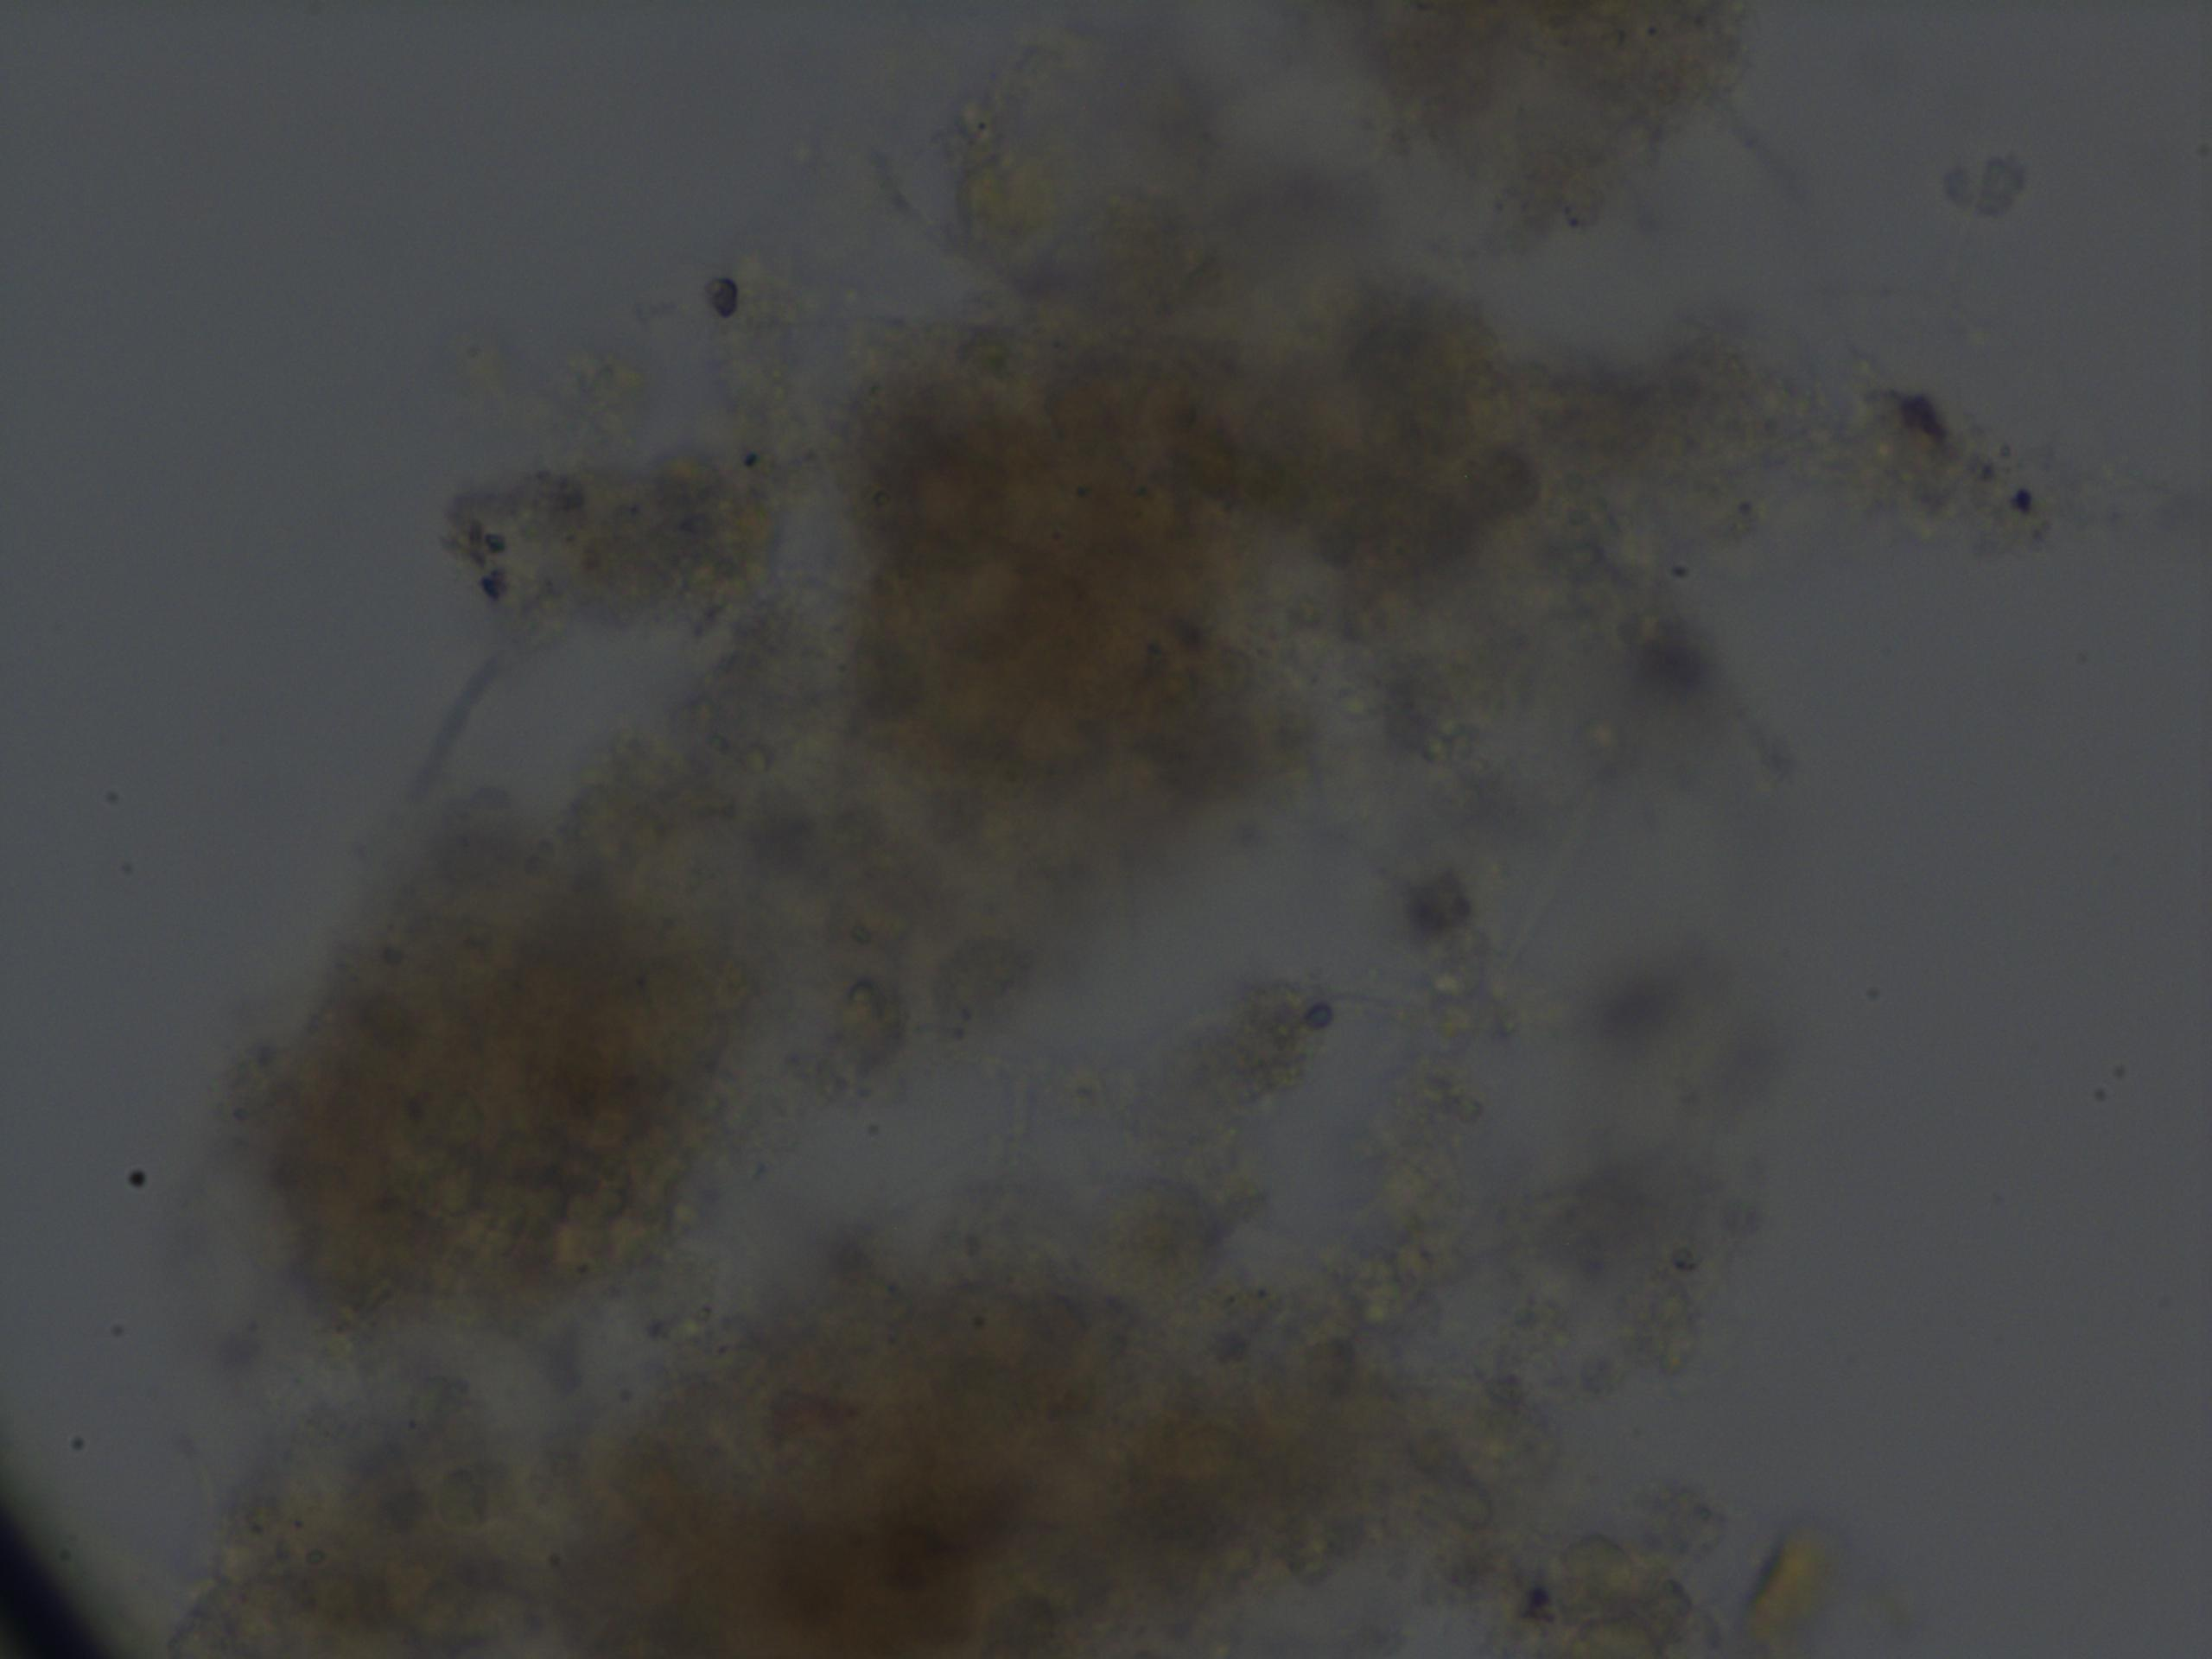open_floc: (143, 0, 1907, 1659)
